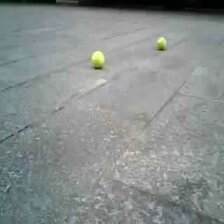tennis: (91, 51, 104, 68), (157, 37, 166, 49)
